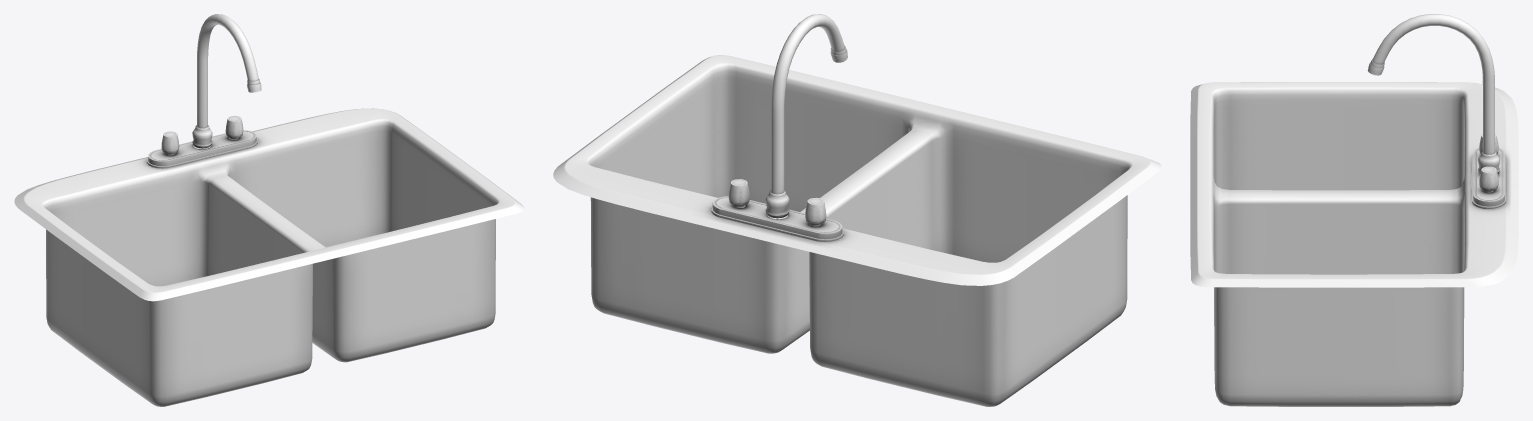
File: KitchenSink.fbx
3 renders of one model, left to right at view 1: azimuth 30°, elevation 25°; view 2: azimuth 150°, elevation 25°; view 3: azimuth 270°, elevation 25°, orthographic. The views are drawn at different scales.
Parts seen in each view (by area): view 1: KitchenSink, KitchenSinkFaucet; view 2: KitchenSink, KitchenSinkFaucet; view 3: KitchenSink, KitchenSinkFaucet, KitchenSinkHandleR.
Part boxes in pixels (x1,y1,x2,y2): KitchenSink: [14, 108, 524, 406]; KitchenSinkFaucet: [192, 14, 261, 148]; KitchenSink: [553, 55, 1161, 406]; KitchenSinkFaucet: [765, 14, 847, 218]; KitchenSink: [1190, 82, 1518, 406]; KitchenSinkFaucet: [1367, 14, 1499, 173]; KitchenSinkHandleR: [1479, 166, 1498, 192].
Bounding box in the file's own units: 83.32 × 63.11 × 56.74.
1 material, 1 textured.
